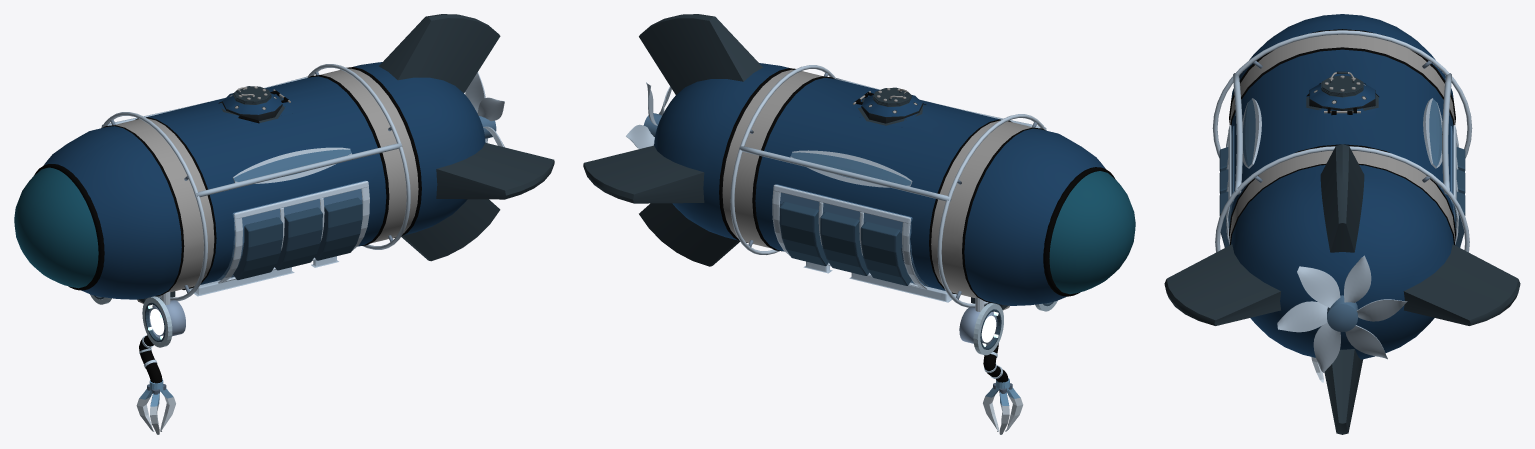
File: Tier_3.glb
3 views of the same model, side by side, from view 1: azimuth 30°, elevation 25°; view 2: azimuth 150°, elevation 25°; view 3: azimuth 270°, elevation 25° (orthographic). The views are drawn at different scales.
Visible parts, largest first — view 1: Hull Tier 3, Light Tier 3, Claw Tier 3, Propeller Tier 3; view 2: Hull Tier 3, Light Tier 3, Claw Tier 3, Propeller Tier 3; view 3: Hull Tier 3, Propeller Tier 3.
Part boxes in pixels (x1=…): Hull Tier 3: x1=14, y1=14, x2=554, y2=303; Light Tier 3: x1=90, y1=291, x2=185, y2=347; Claw Tier 3: x1=136, y1=304, x2=175, y2=434; Propeller Tier 3: x1=465, y1=72, x2=504, y2=147; Hull Tier 3: x1=583, y1=14, x2=1135, y2=310; Light Tier 3: x1=959, y1=297, x2=1057, y2=355; Claw Tier 3: x1=983, y1=311, x2=1023, y2=434; Propeller Tier 3: x1=626, y1=82, x2=671, y2=148; Hull Tier 3: x1=1164, y1=14, x2=1520, y2=434; Propeller Tier 3: x1=1277, y1=255, x2=1407, y2=372.
Bounding box in the file's own units: 27.96 × 19.33 × 15.84.
